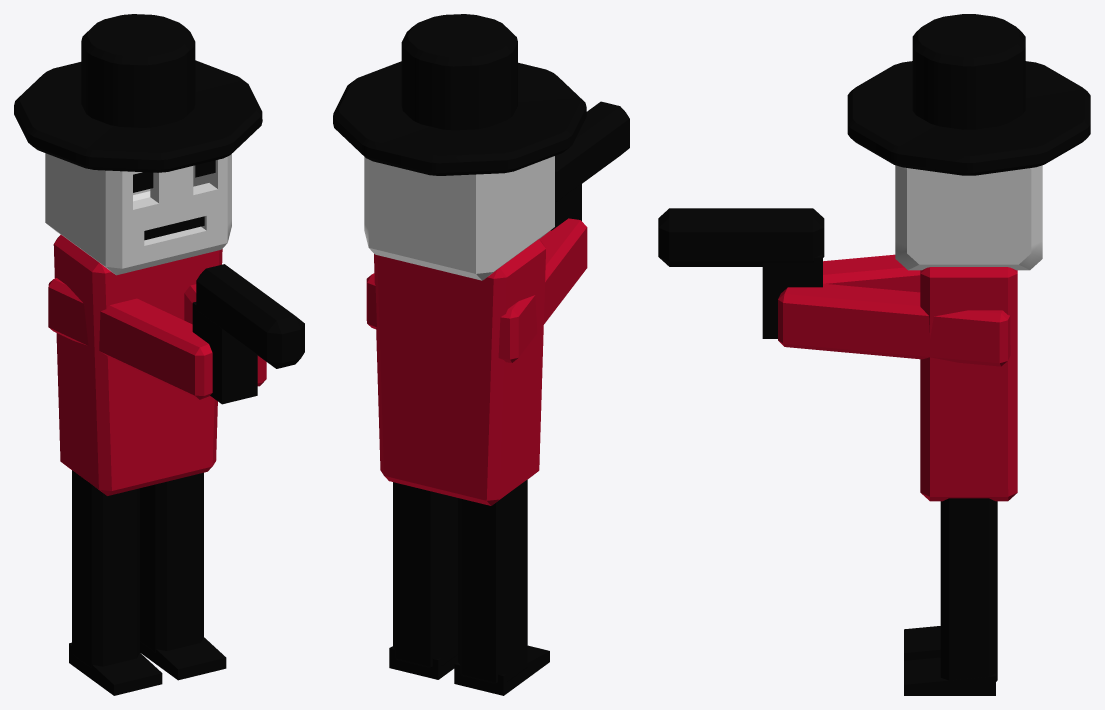
File: character.fbx
The picture shows the model from 3 angles, left to right: view 1: azimuth 30°, elevation 25°; view 2: azimuth 150°, elevation 25°; view 3: azimuth 270°, elevation 25°; orthographic projection. The views are drawn at different scales.
Visible parts, largest first — view 1: body, head, hat_bottom, right_leg, hat_top, left_leg, right_arm, gun_pipe, gun_handle, right_foot, left_foot, left_arm (+1 smaller); view 2: body, head, hat_bottom, right_leg, hat_top, left_leg, right_arm, gun_pipe, right_foot, left_foot, gun_handle, left_arm; view 3: body, hat_bottom, head, left_arm, hat_top, left_leg, gun_pipe, right_arm, gun_handle, left_foot, right_foot.
Part boxes in pixels (x1=…): body: x1=53, y1=234, x2=222, y2=495; head: x1=45, y1=153, x2=231, y2=275; hat_bottom: x1=14, y1=60, x2=262, y2=172; right_leg: x1=72, y1=470, x2=139, y2=668; hat_top: x1=81, y1=14, x2=195, y2=127; left_leg: x1=140, y1=472, x2=203, y2=652; right_arm: x1=48, y1=278, x2=212, y2=399; gun_pipe: x1=196, y1=264, x2=304, y2=368; gun_handle: x1=192, y1=302, x2=257, y2=404; right_foot: x1=69, y1=642, x2=162, y2=695; left_foot: x1=140, y1=637, x2=226, y2=680; left_arm: x1=184, y1=284, x2=266, y2=386; body: x1=374, y1=239, x2=545, y2=505; head: x1=364, y1=156, x2=554, y2=280; hat_bottom: x1=333, y1=61, x2=586, y2=175; right_leg: x1=458, y1=479, x2=527, y2=683; hat_top: x1=401, y1=14, x2=517, y2=130; left_leg: x1=393, y1=482, x2=457, y2=668; right_arm: x1=498, y1=218, x2=587, y2=362; gun_pipe: x1=555, y1=101, x2=629, y2=201; right_foot: x1=454, y1=645, x2=549, y2=695; left_foot: x1=389, y1=646, x2=457, y2=679; gun_handle: x1=550, y1=183, x2=581, y2=230; left_arm: x1=366, y1=273, x2=376, y2=329; body: x1=920, y1=267, x2=1017, y2=501; hat_bottom: x1=847, y1=61, x2=1090, y2=175; head: x1=895, y1=165, x2=1042, y2=270; left_arm: x1=778, y1=283, x2=1010, y2=366; hat_top: x1=912, y1=14, x2=1025, y2=129; left_leg: x1=940, y1=498, x2=997, y2=681; gun_pipe: x1=658, y1=208, x2=824, y2=266; right_arm: x1=823, y1=254, x2=920, y2=292; gun_handle: x1=762, y1=254, x2=822, y2=338; left_foot: x1=904, y1=657, x2=995, y2=695; right_foot: x1=904, y1=626, x2=940, y2=660.
Size of the model in its own units: 1.32 by 3.65 by 2.26.
